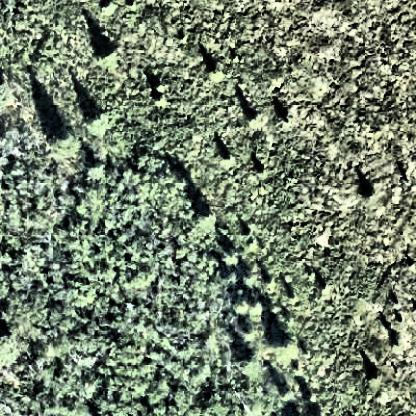tree-top: (232, 289, 267, 321), (50, 126, 84, 158), (79, 104, 112, 135), (274, 330, 300, 357), (193, 208, 216, 232), (96, 42, 117, 67), (247, 107, 267, 131), (360, 182, 381, 204), (241, 266, 262, 288), (367, 366, 385, 386), (209, 65, 228, 83)
